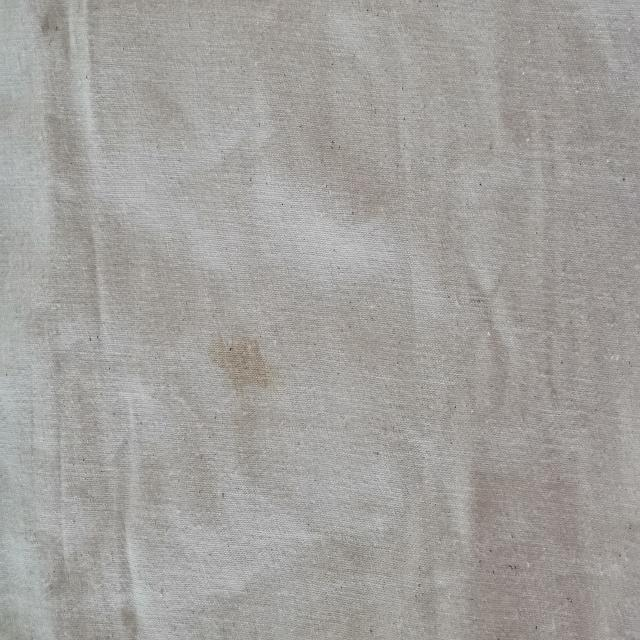taaaches: (205, 311, 274, 402)
